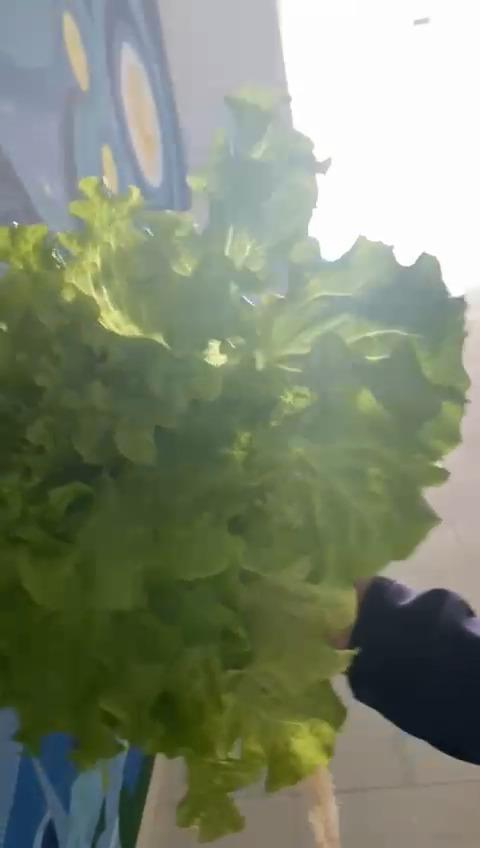Healthy: (0, 90, 480, 840)
